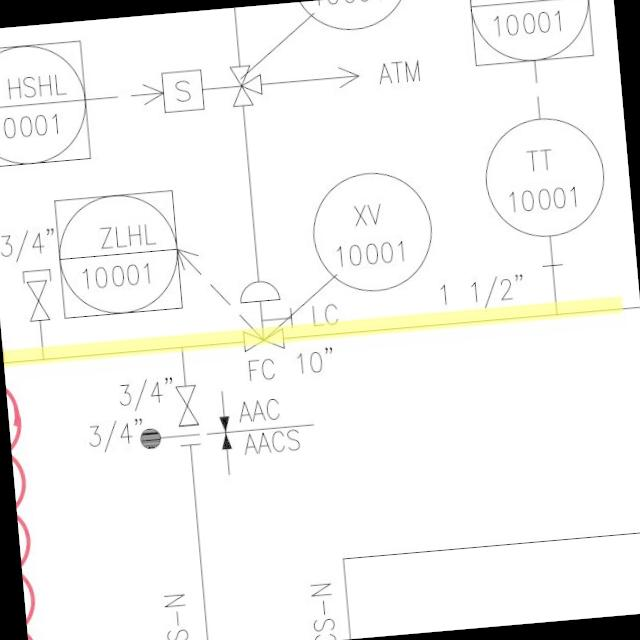3W: (224, 50, 268, 115)
EC: (15, 259, 62, 364)
FC: (230, 274, 296, 358)
GV: (168, 377, 202, 430), (24, 274, 52, 326)
